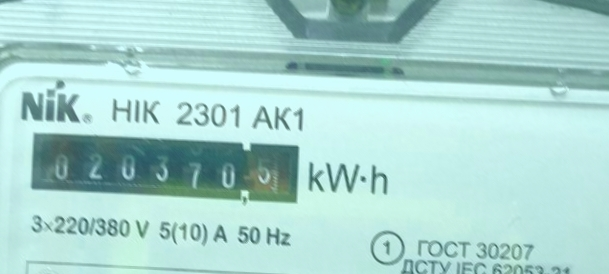0: (218, 160, 238, 191), (52, 151, 70, 180), (120, 152, 136, 180)
2: (86, 150, 105, 182)
3: (153, 152, 170, 183)
5: (255, 155, 274, 186)
7: (185, 160, 202, 190)
screen: (23, 126, 308, 213)
